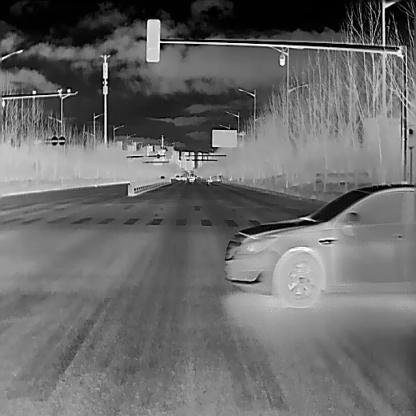car: (224, 183, 416, 307), (205, 173, 220, 181), (174, 173, 180, 179), (188, 177, 194, 182), (181, 174, 186, 179), (158, 175, 164, 178)
